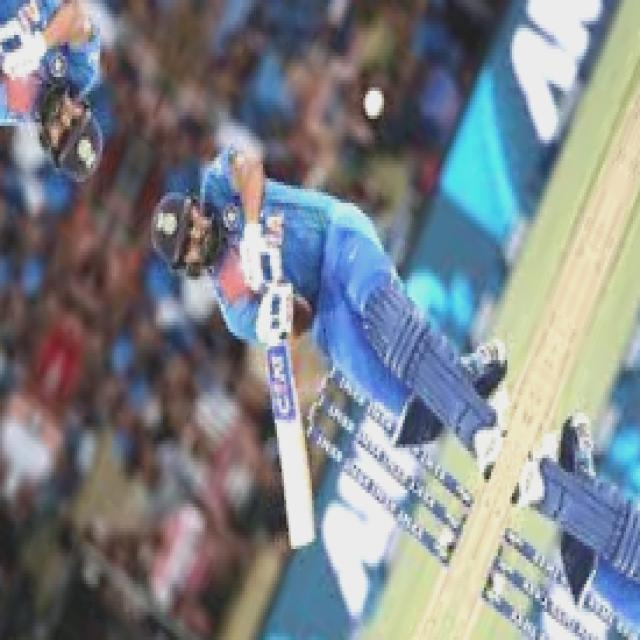toe: (291, 529, 320, 555)
